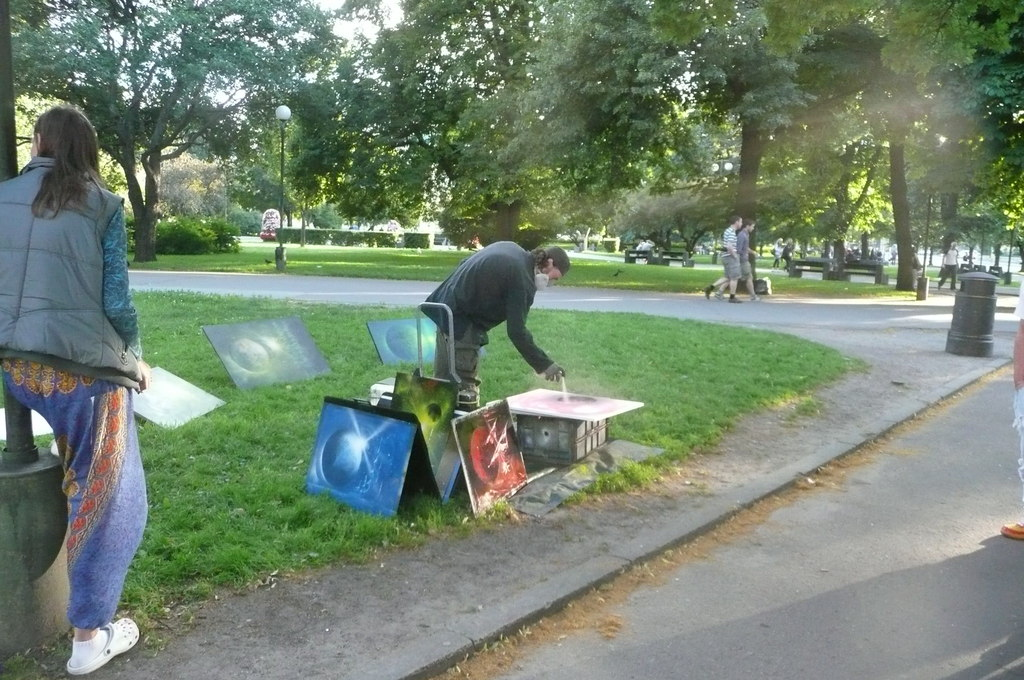Tree: (277, 0, 710, 272), (0, 0, 336, 275), (728, 41, 995, 293)
